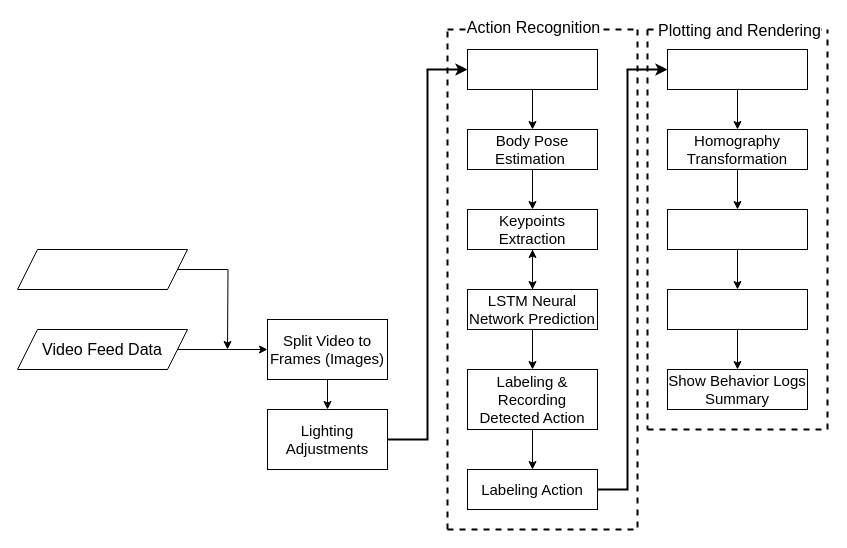
This 847x548 diagram has some shape labels left out. Each missing label, with the box of its shape:
Datasets: (16, 248, 188, 290)
Human Detection: (466, 48, 598, 90)
Plotting Detected Human's Position: (666, 208, 808, 250)
Render Human's Actions in Heatmap: (666, 288, 808, 330)
Room Corners Detection: (666, 48, 808, 90)
